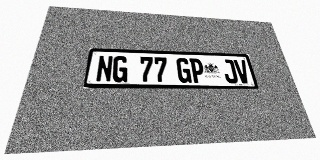7: (153, 57, 168, 83), (139, 57, 153, 83)
G: (112, 56, 128, 82), (176, 58, 192, 83)
J: (221, 59, 239, 83)
N: (95, 55, 113, 82)
P: (189, 58, 205, 83)
V: (233, 60, 251, 83)
